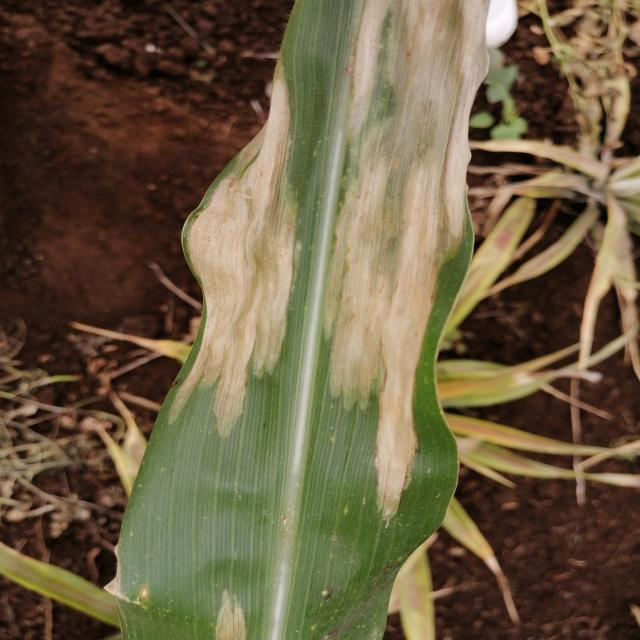Corn_Leaf_Blight: (154, 0, 490, 556)
